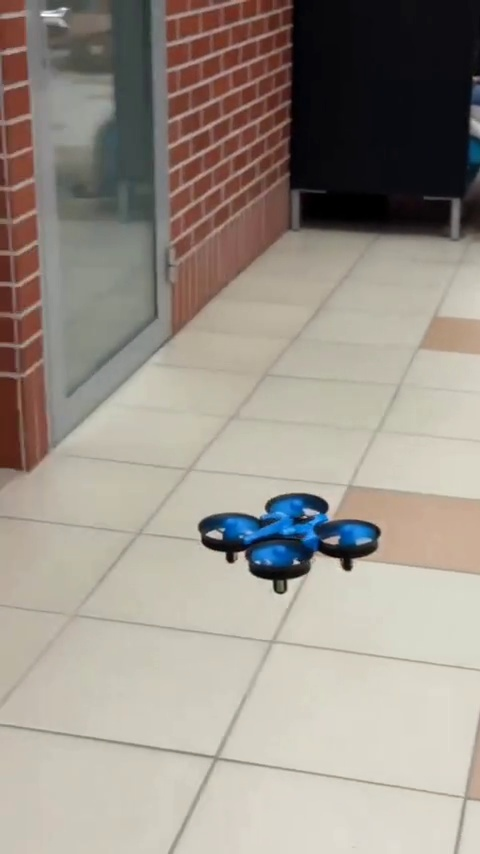drone: (197, 488, 379, 601)
